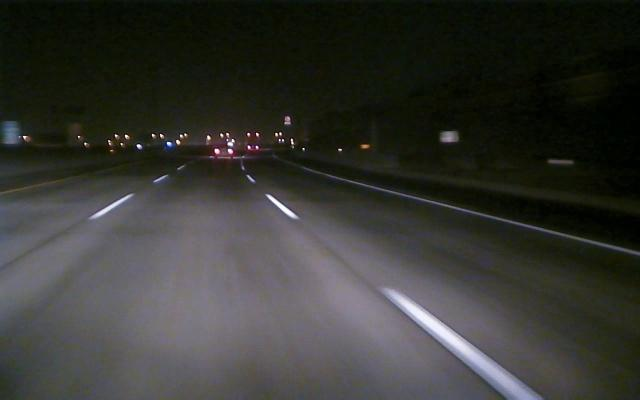lane: (247, 177, 543, 398), (351, 178, 640, 258), (4, 176, 162, 272)
